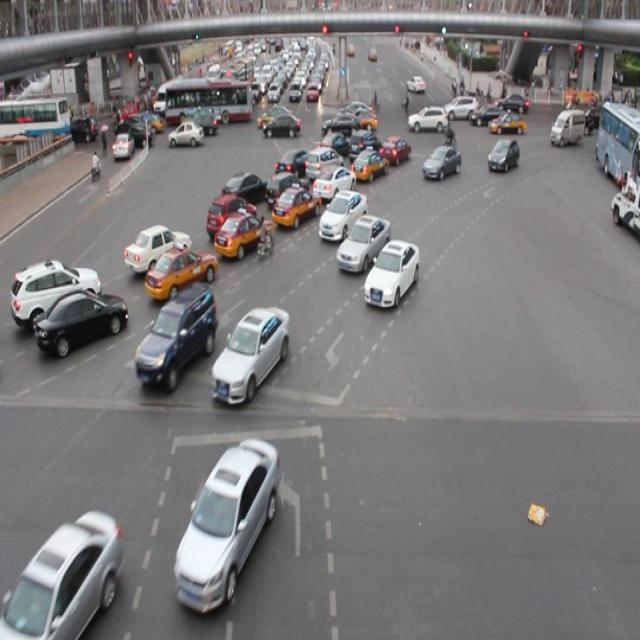car: (176, 439, 278, 603), (0, 507, 120, 640), (135, 288, 214, 390), (210, 306, 289, 403), (36, 288, 127, 354), (10, 258, 99, 322), (144, 246, 217, 302), (363, 239, 418, 305), (124, 224, 192, 274), (334, 213, 388, 274), (214, 209, 274, 259), (318, 190, 365, 242), (206, 193, 257, 238), (272, 186, 321, 230), (310, 164, 354, 202), (266, 172, 310, 210), (221, 172, 266, 208), (420, 144, 460, 182), (349, 146, 387, 182), (486, 137, 519, 175), (274, 149, 312, 179), (347, 130, 380, 162), (379, 134, 409, 165), (316, 130, 348, 156)
truck: (304, 147, 344, 186)
